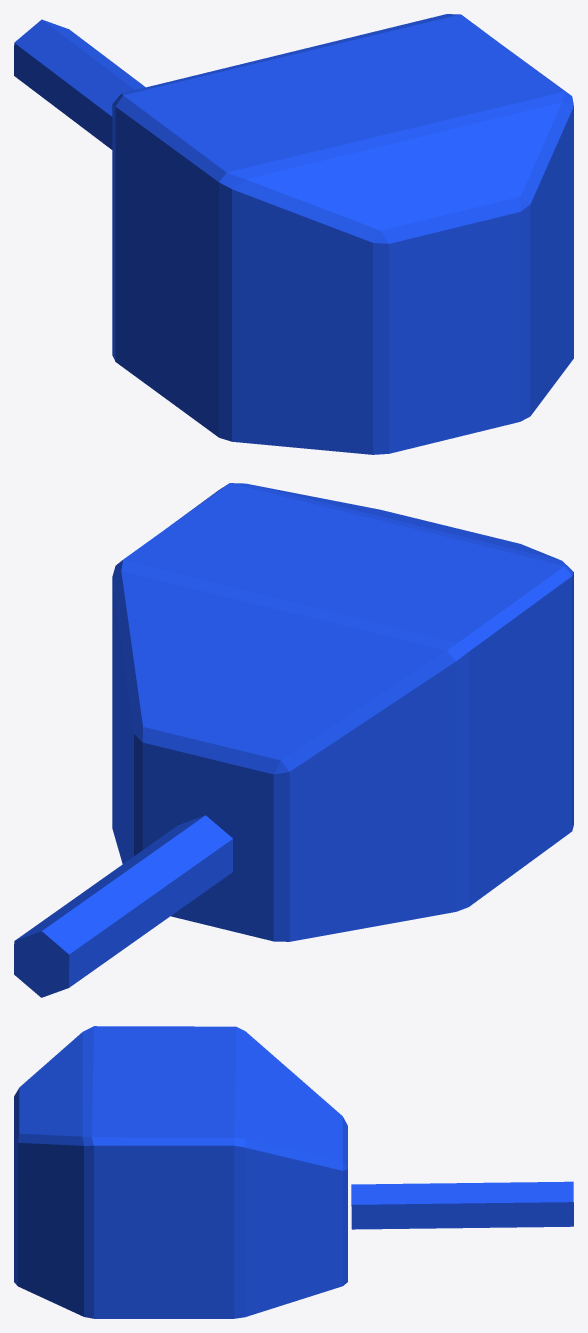
The model's file is SingleGun.fbx.
The picture shows the model from 3 angles, top to bottom: view 1: azimuth 30°, elevation 25°; view 2: azimuth 150°, elevation 25°; view 3: azimuth 270°, elevation 25°; orthographic projection. The views are drawn at different scales.
Parts seen in each view (by area): view 1: SingleGun; view 2: SingleGun; view 3: SingleGun.
Boxes of the visible parts, x1=… form: SingleGun: x1=14, y1=14, x2=573, y2=454; SingleGun: x1=14, y1=483, x2=573, y2=997; SingleGun: x1=14, y1=1026, x2=573, y2=1318.
Bounding box in the file's own units: 47.37 × 33.75 × 96.
